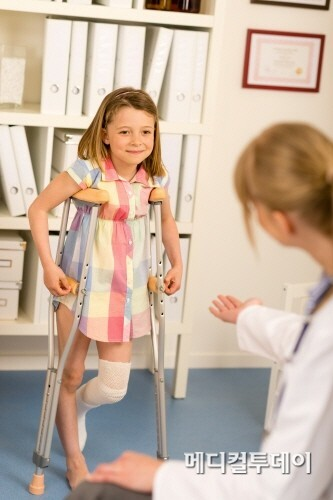crutches: (27, 87, 181, 493)
